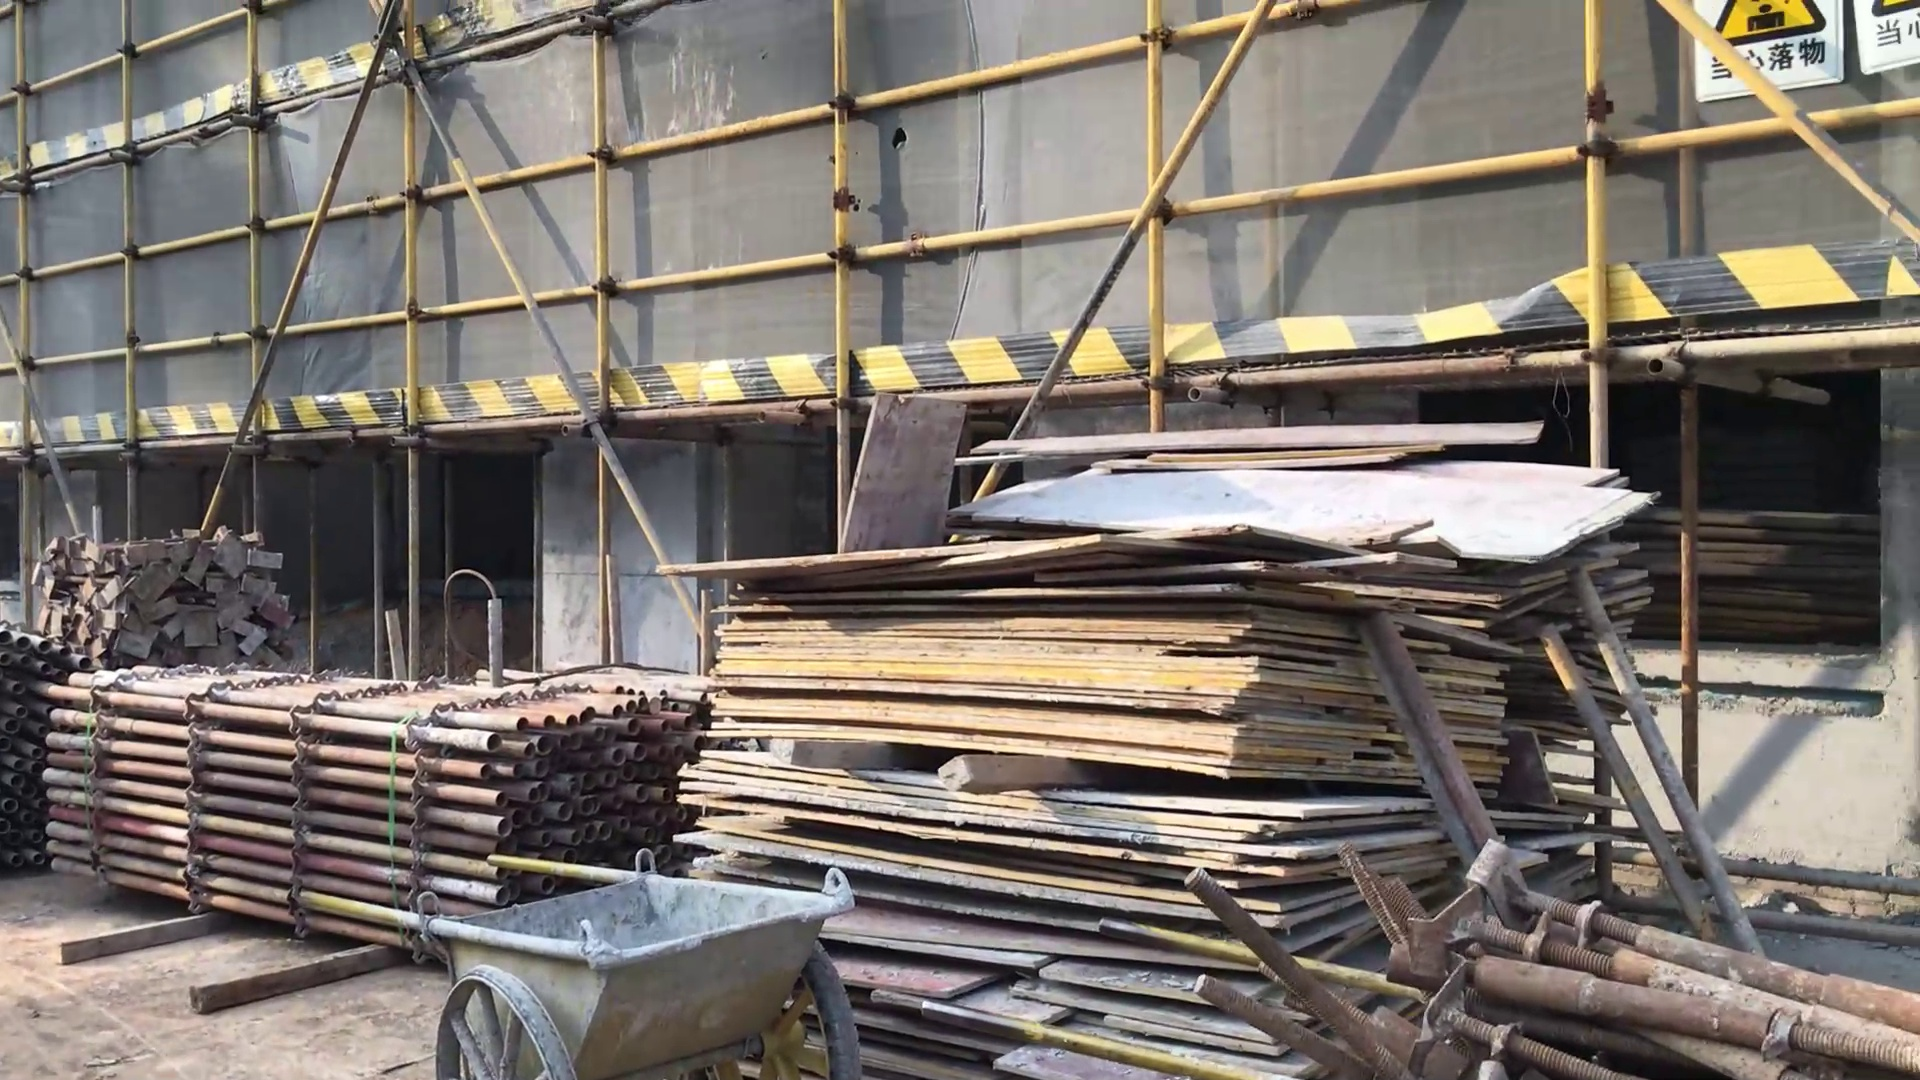board: (691, 429, 1636, 1080)
handcart: (291, 851, 866, 1080)
scaffold: (41, 663, 720, 952), (1, 628, 96, 872)
slogan: (1701, 1, 1920, 99)
